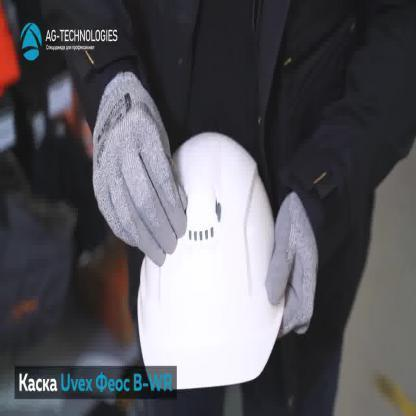gloves: (91, 68, 189, 268), (266, 190, 318, 340)
helmet: (136, 130, 287, 392)
